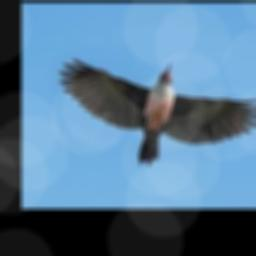Woodpecker: (59, 59, 256, 166)
